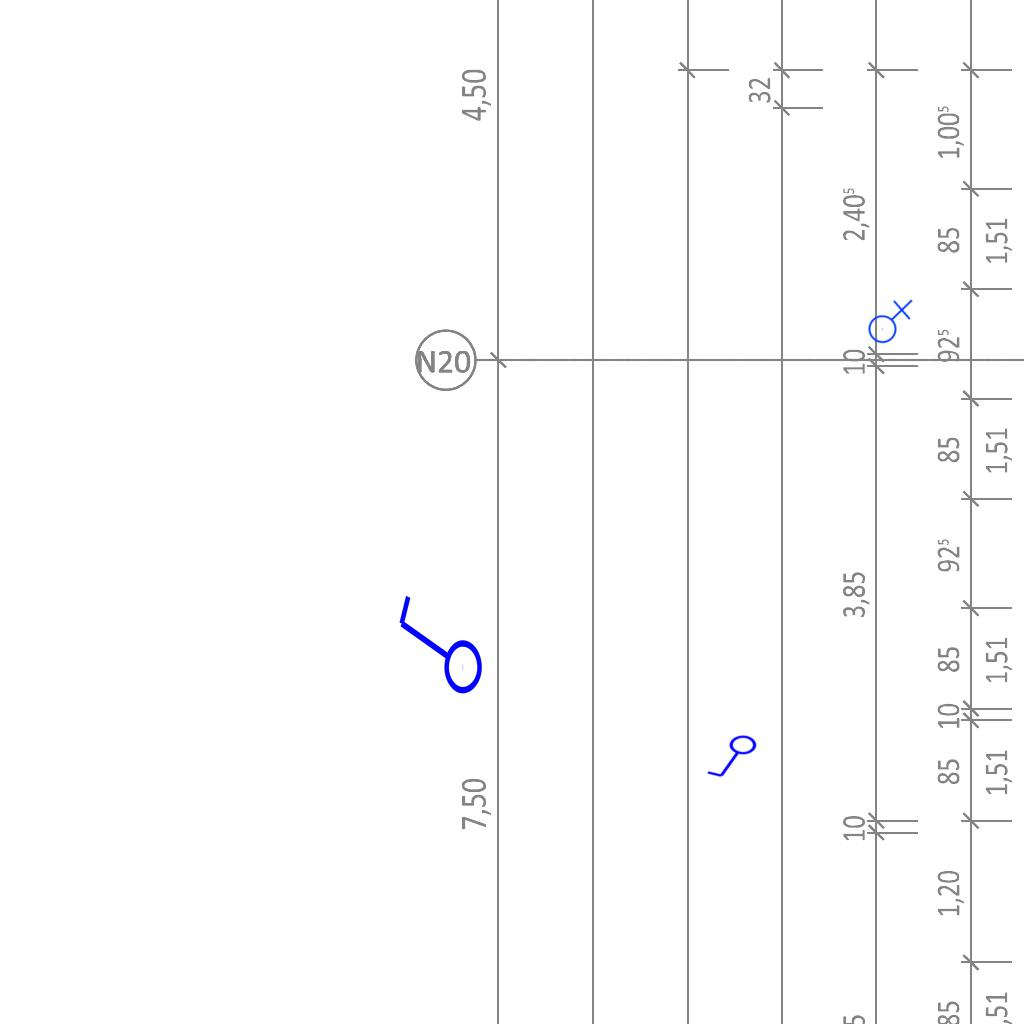Ausschalter: (389, 593, 485, 705), (706, 734, 762, 782)
Elektroanschluss_allgemein_230V_Geraeteanschlussdose_230V: (864, 297, 913, 344)
